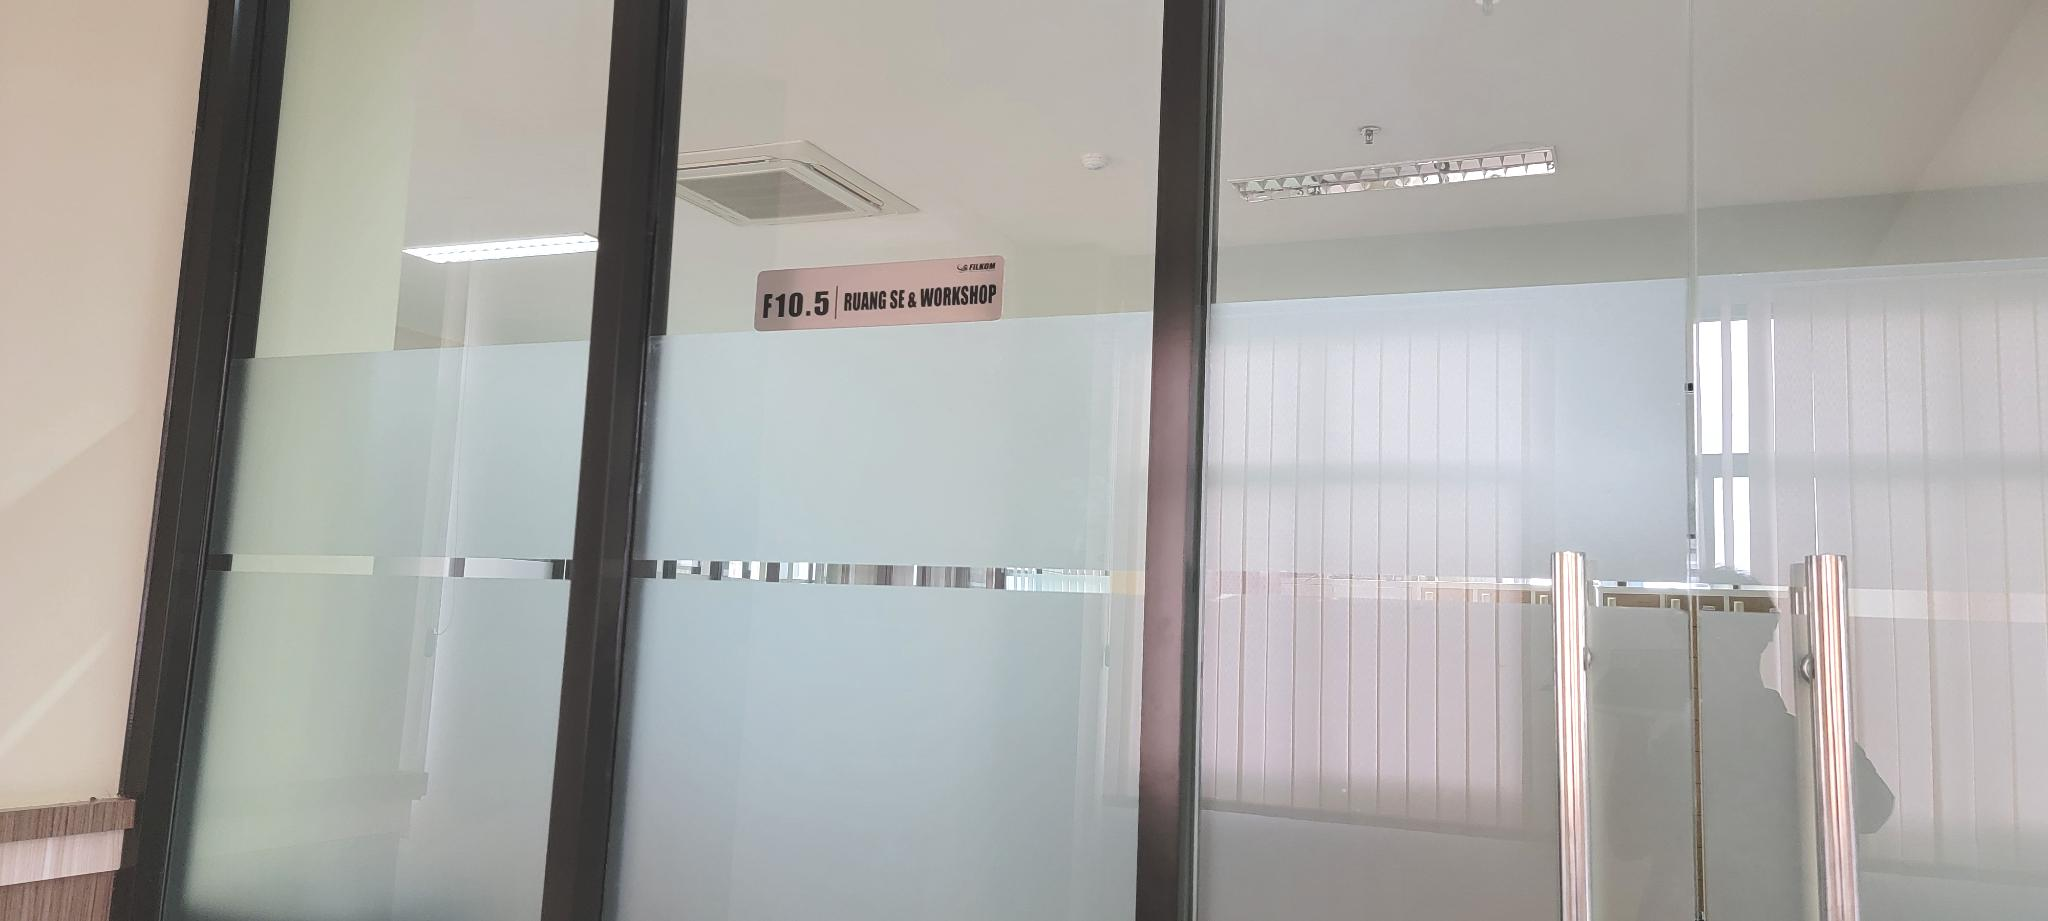plate: (752, 255, 1007, 333)
